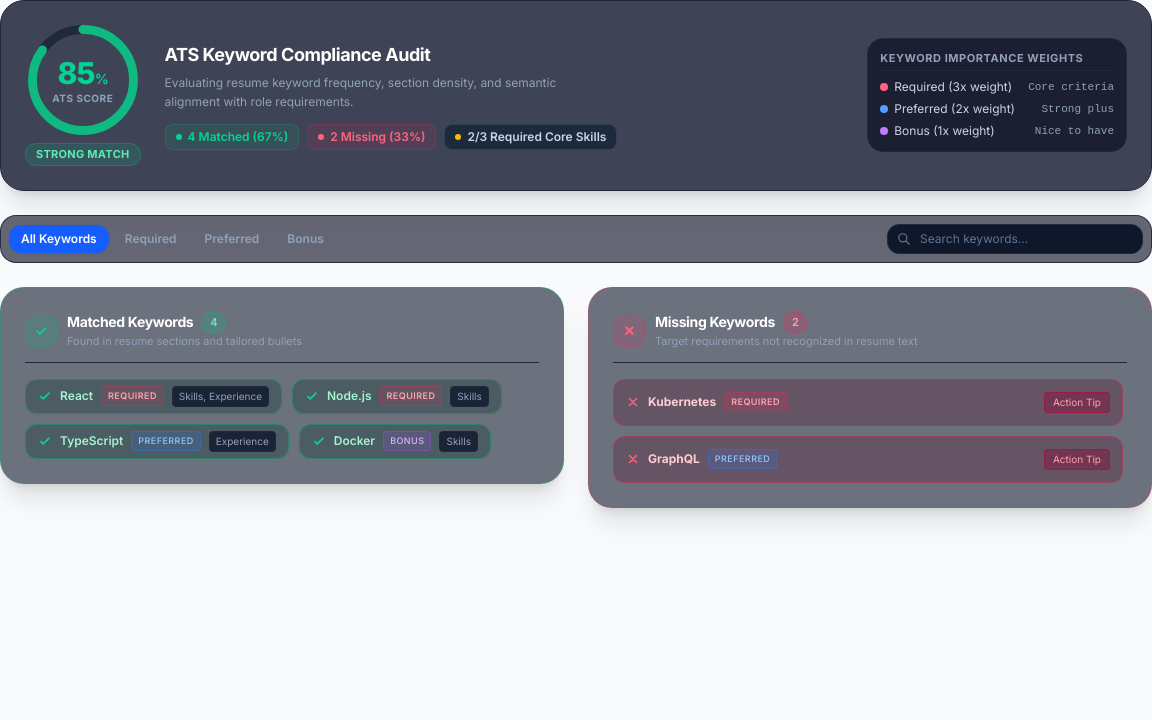
Test case: ATSReport Component › filters keywords by importance tabs
The image size is (1152, 720).
Click the button with aria-label "Filter by Bonus" at (306, 238), box x1=275 y1=224 x2=336 y2=252
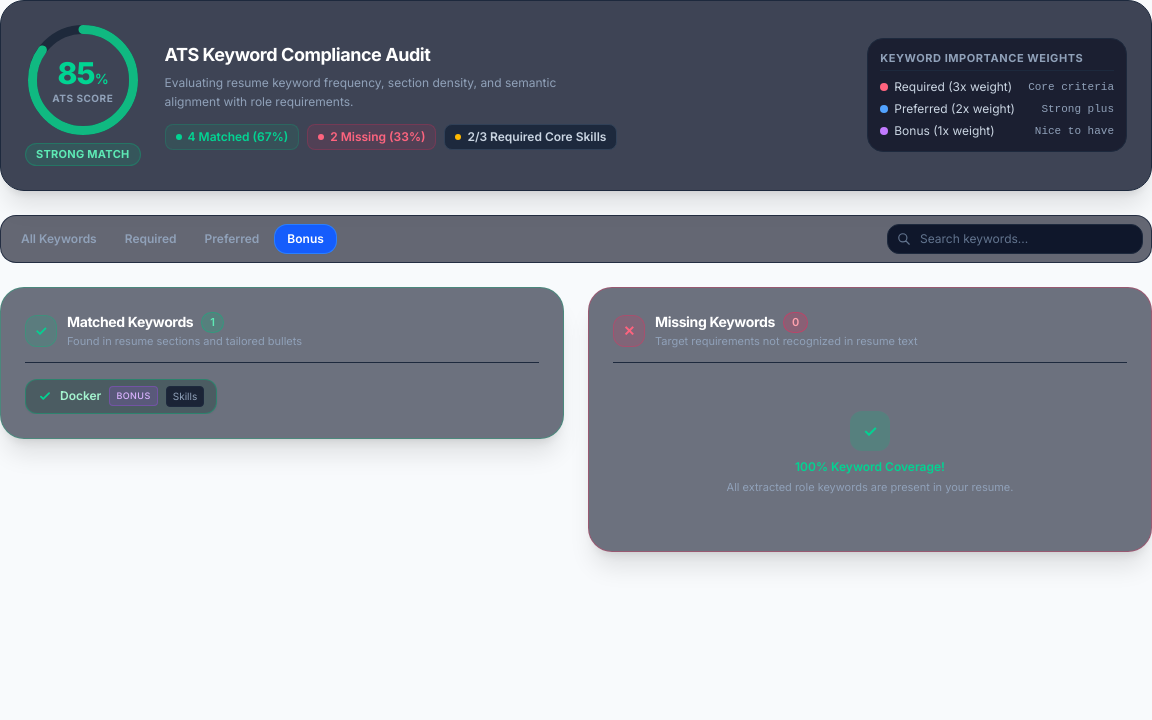
Expected: the text "Docker" is shown, x1=60 y1=388 x2=101 y2=404
Result: the text "React" is gone
Result: the text "Kubernetes" is gone
